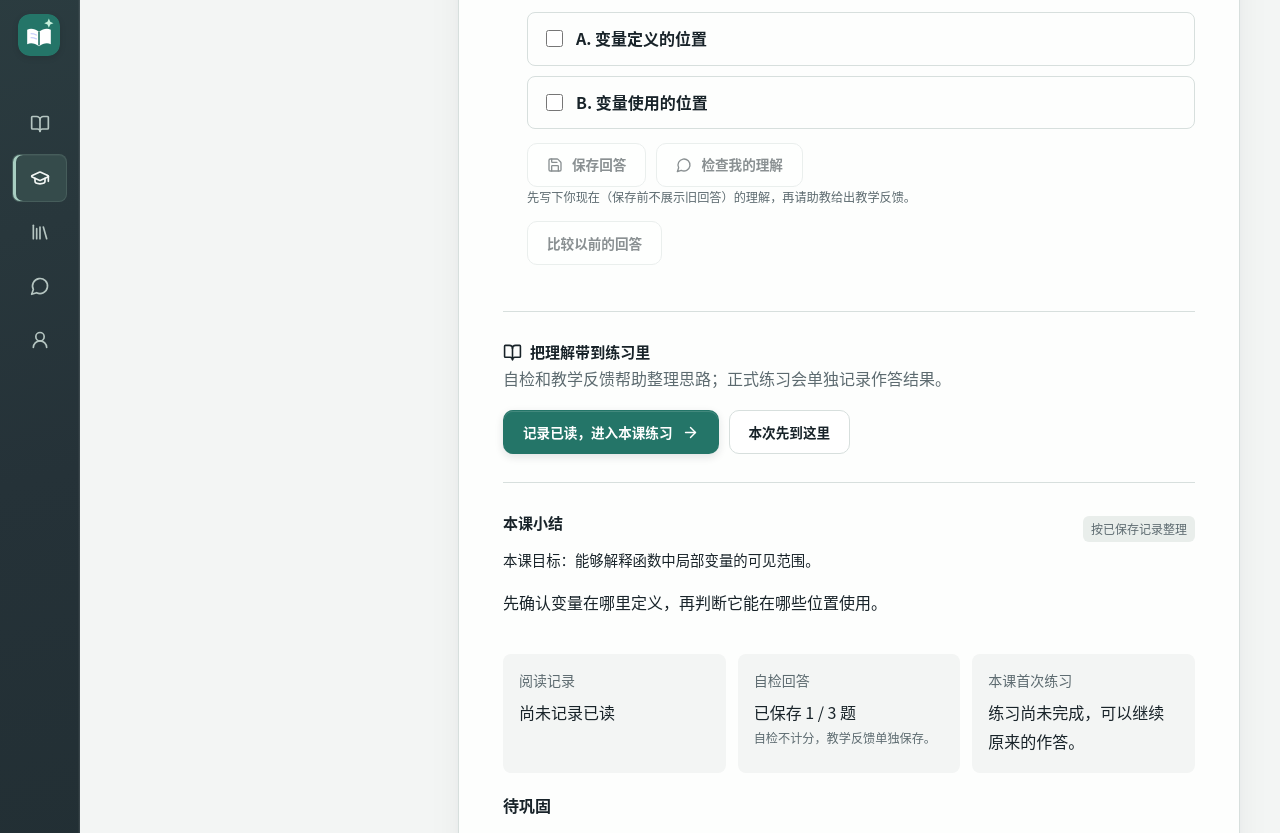
Test: one lesson learning flow › confirms an absolute read intent before reopening the existing quiz, then returns to its own summary
The width and height of the screenshot is (1280, 833).
(page scrolled)
Click the button "记录已读，进入本课练习" at (611, 432), box [503,410,718,454]
(page scrolled)
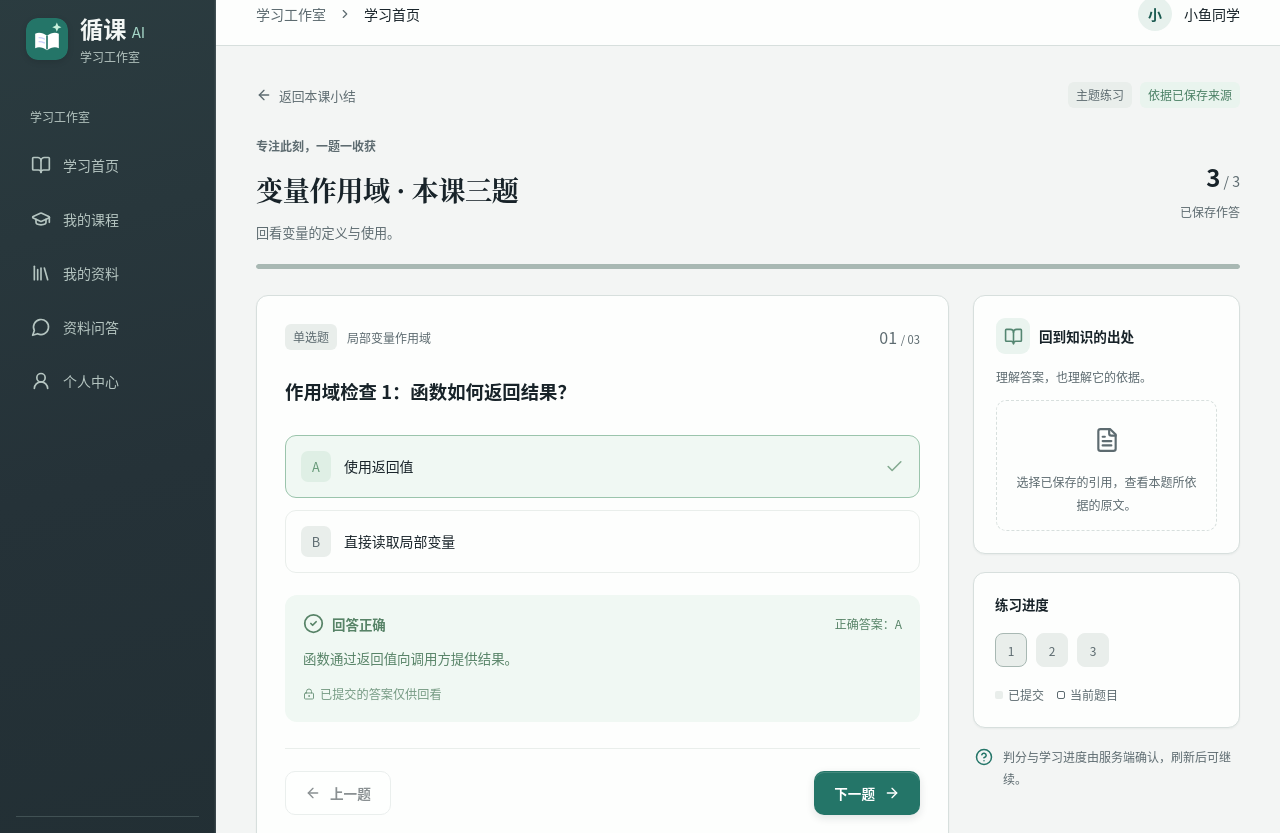
expect the heading "变量作用域 · 本课三题" is shown: met, box [256,170,518,211]
Click the link "返回本课小结" at (306, 95), box [256,86,356,105]
(page scrolled)
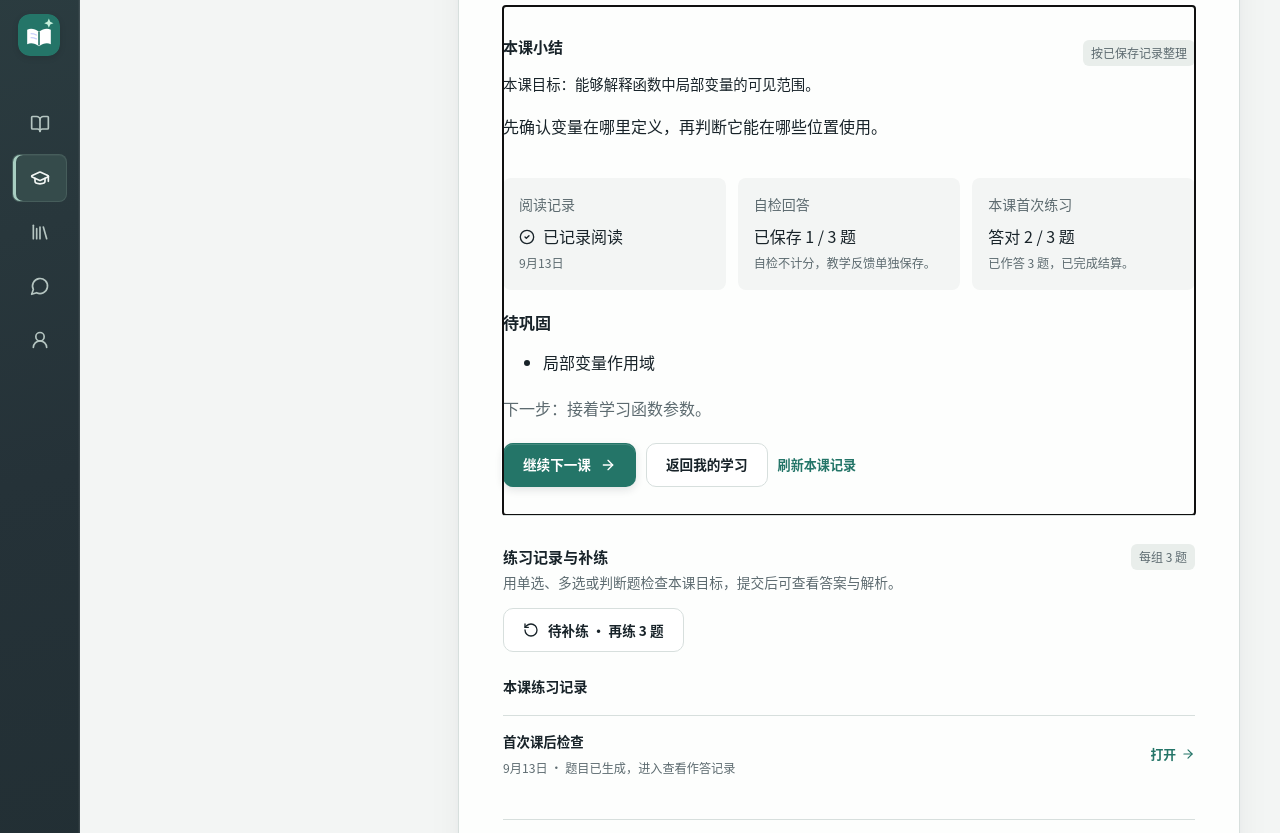
expect the text "答对 2 / 3 题" is shown: met, box [988,224,1075,248]
expect the text "已保存 1 / 3 题" is shown: met, box [754,224,856,248]
expect the text "已记录阅读" is shown: met, box [519,224,623,248]
